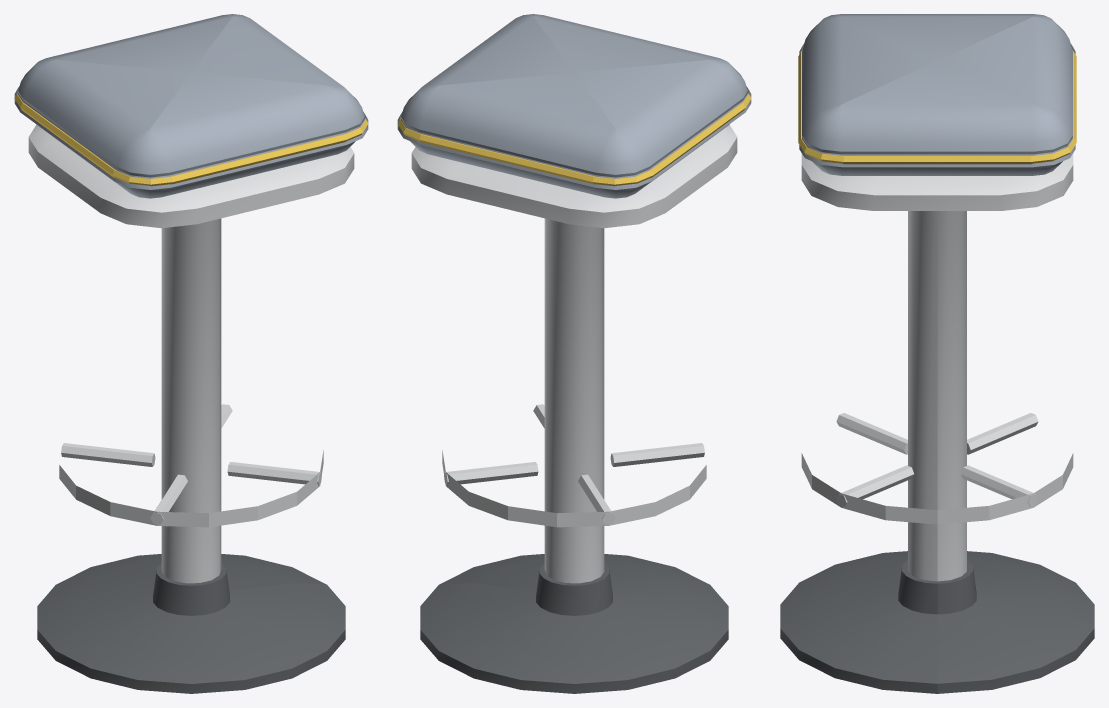
Rendered from laundrette-and-cleaning-counter-stool-1248c8b8__25554.glb.
3 views of the same model, side by side, from view 1: azimuth 30°, elevation 25°; view 2: azimuth 150°, elevation 25°; view 3: azimuth 270°, elevation 25° (orthographic).
Visible parts, largest first — view 1: counter-stool; view 2: counter-stool; view 3: counter-stool.
Part boxes in pixels (box(x1,y1,x2,y2)): counter-stool: box(14, 14, 368, 693); counter-stool: box(397, 14, 751, 693); counter-stool: box(780, 14, 1094, 693).
Size of the model in its own units: 0.4 by 0.782 by 0.3939.
